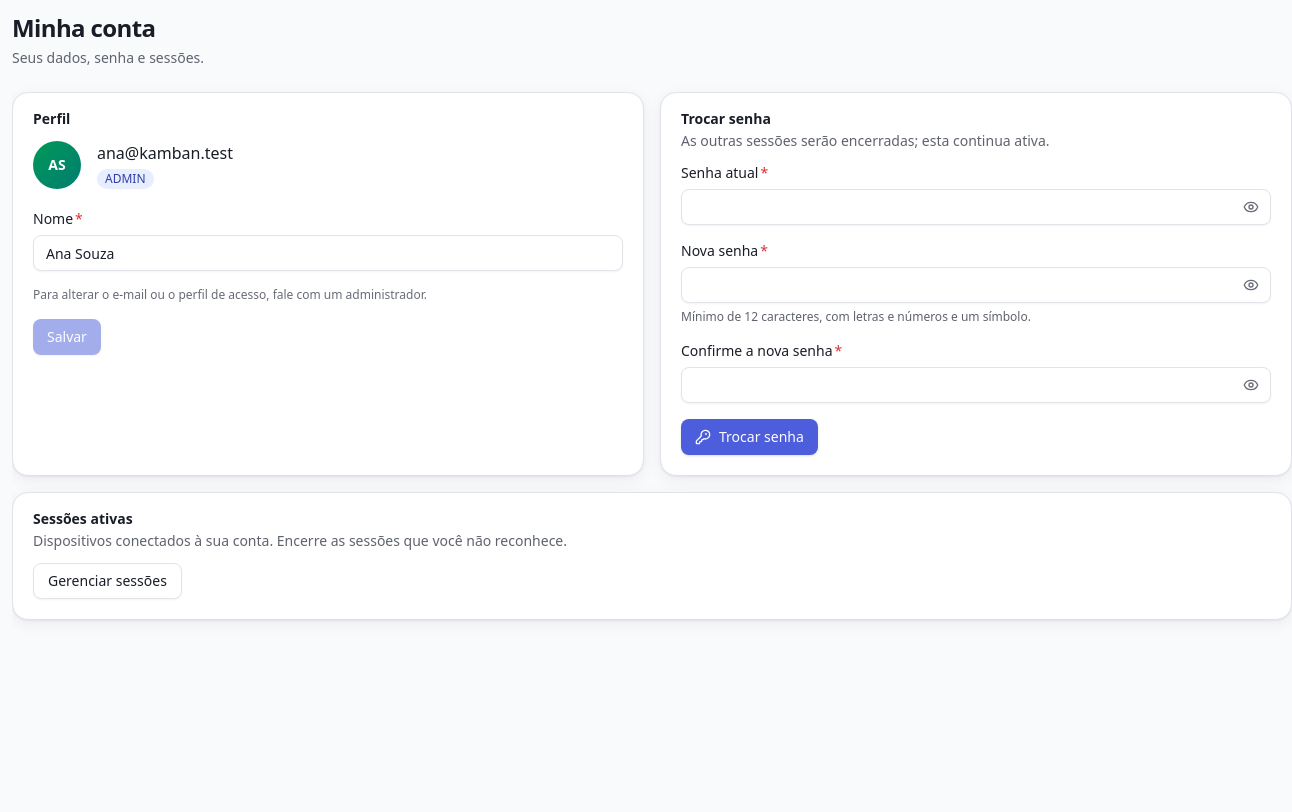
it: Identidade e política de senha nas outras telas › troca de senha mostra e aplica as exigências vigentes
Expected: the text "Mínimo de 12 caracteres, com letras e números e um símbolo." is shown, [681,308,1031,325]
Type "SenhaAtual123" into the password field labelled "Senha atual*". click: (976, 207)
box: [681,189,1271,225]
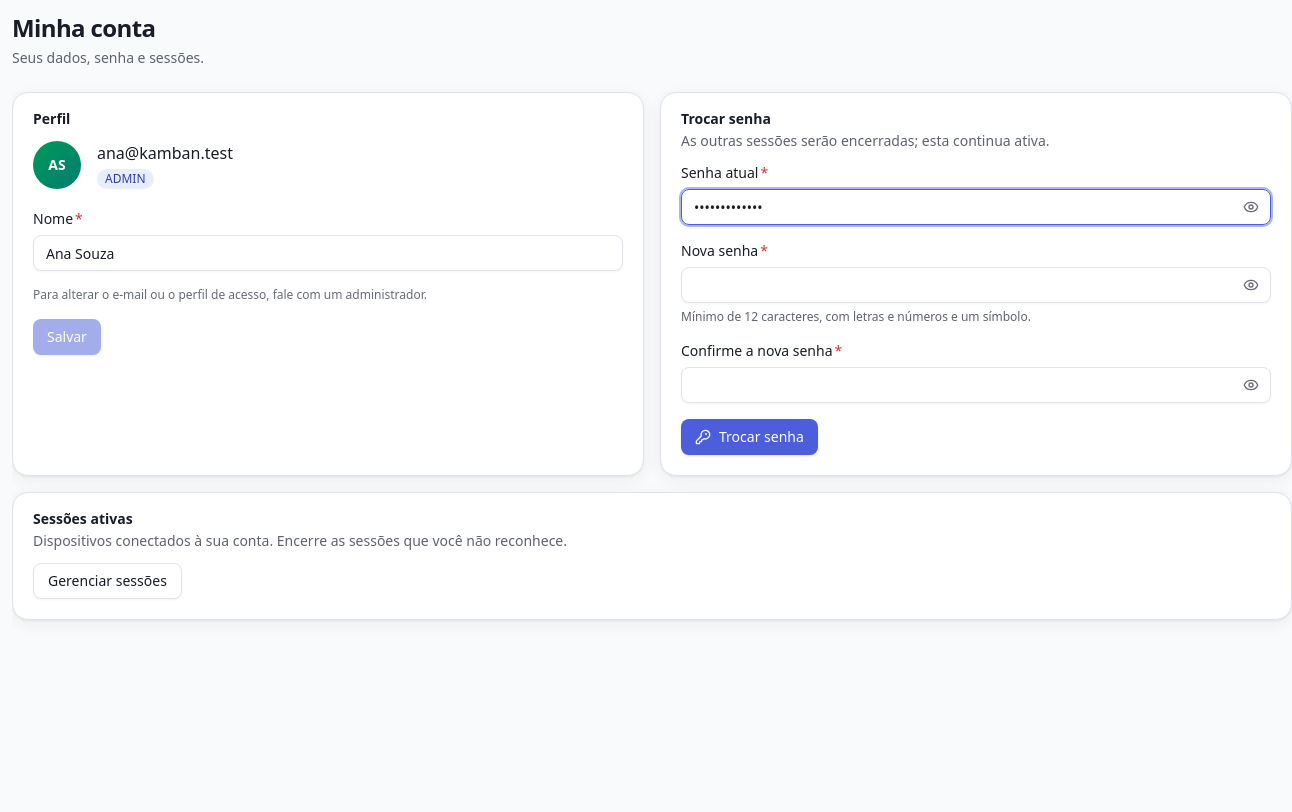
Type "SemSimbolo1234" into the password field labelled "Nova senha*". click: (976, 285)
box: [681,267,1271,303]
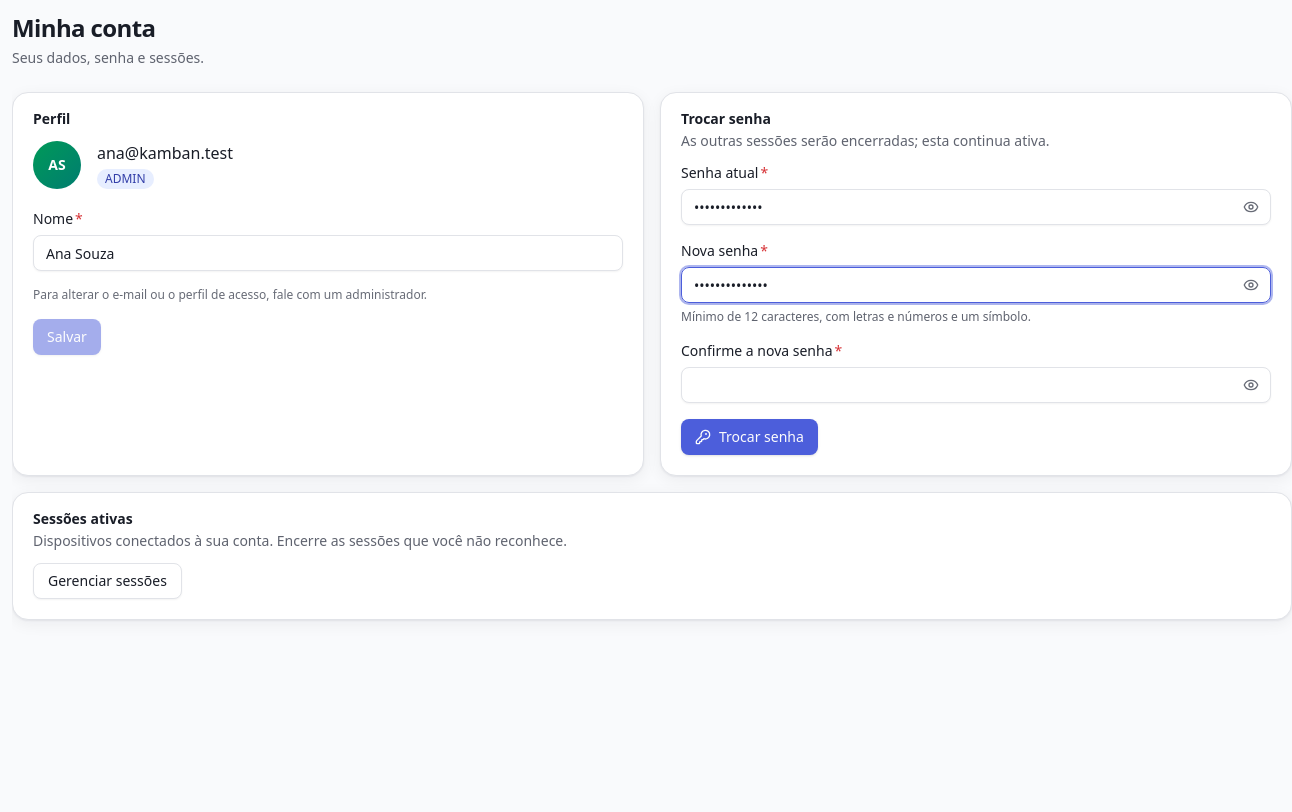
Type "SemSimbolo1234" into the password field labelled "Confirme a nova senha*". click: (976, 385)
box: [681,367,1271,403]
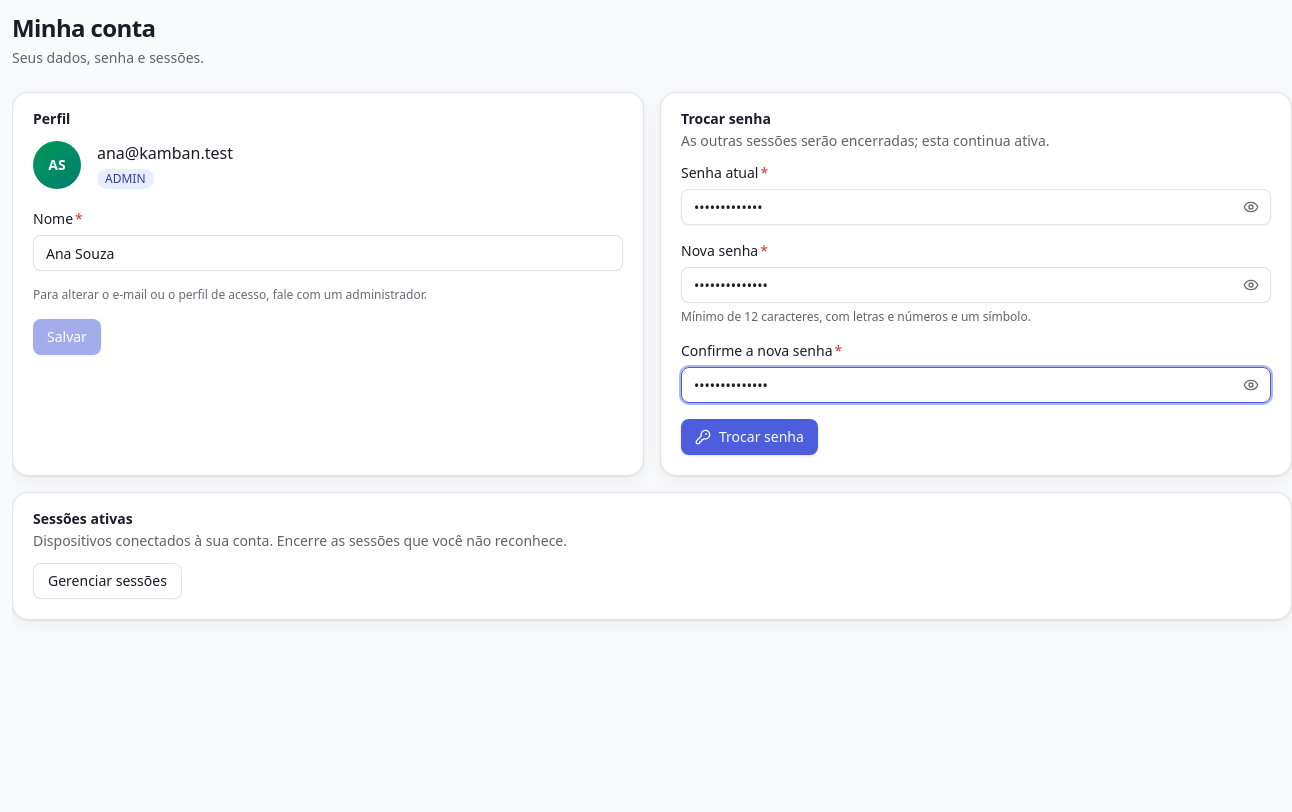
Click the button "Trocar senha". click: (749, 437)
box: [681,419,818,455]
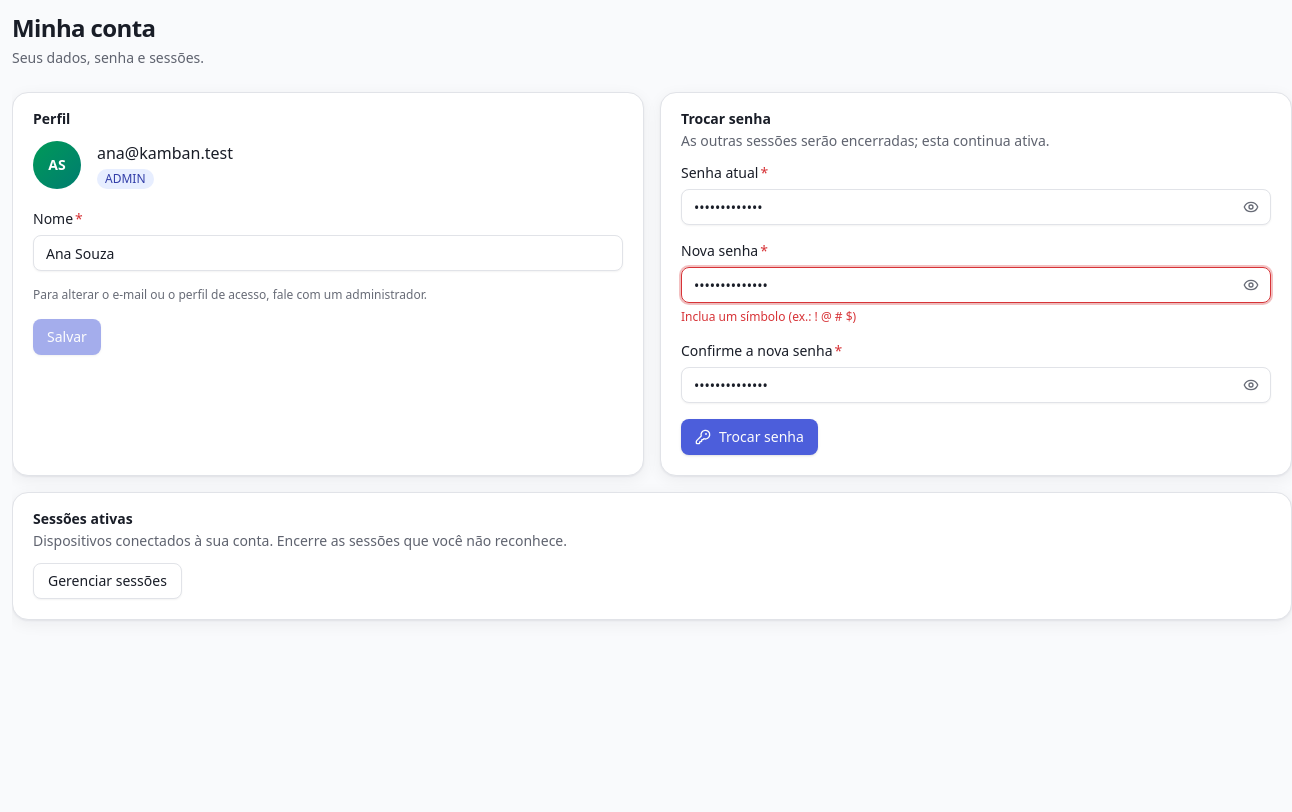
Now the text "Inclua um símbolo (ex.: ! @ # $)" is shown, box [681,308,856,325]
